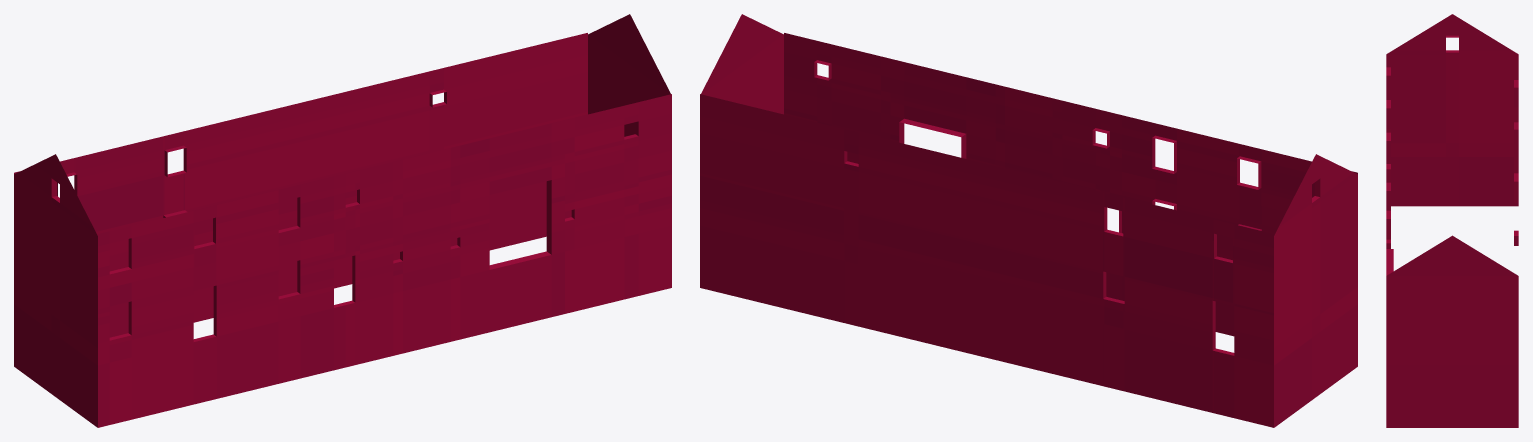
The model's file is SM_Bld_228_Masonry.glb.
3 renders of one model, left to right at view 1: azimuth 30°, elevation 25°; view 2: azimuth 150°, elevation 25°; view 3: azimuth 270°, elevation 25°, orthographic. The views are drawn at different scales.
Visible parts, largest first — view 1: SM_Bld_228_Masonry; view 2: SM_Bld_228_Masonry; view 3: SM_Bld_228_Masonry.
Boxes of the visible parts, box(x1,y1,x2,y2) form: SM_Bld_228_Masonry: box(14, 14, 671, 427); SM_Bld_228_Masonry: box(700, 14, 1357, 427); SM_Bld_228_Masonry: box(1386, 14, 1518, 427).
Size of the model in its own units: 24.08 by 9.75 by 6.09.
